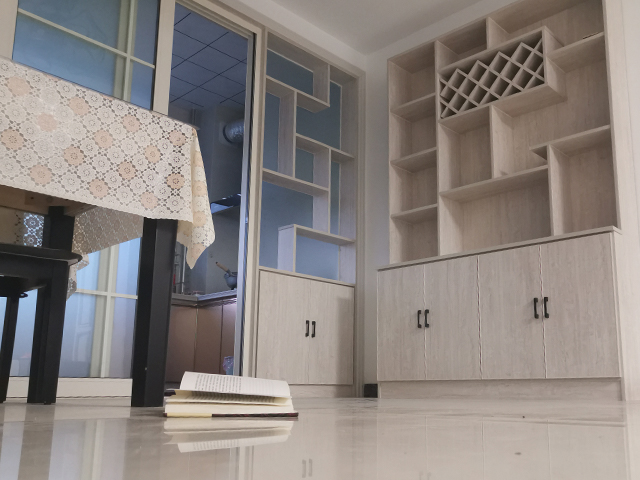book: (160, 370, 301, 420)
cabinet: (371, 227, 635, 403), (242, 269, 357, 398), (164, 287, 239, 389)
stool: (1, 196, 85, 408)
table: (1, 54, 202, 408)
